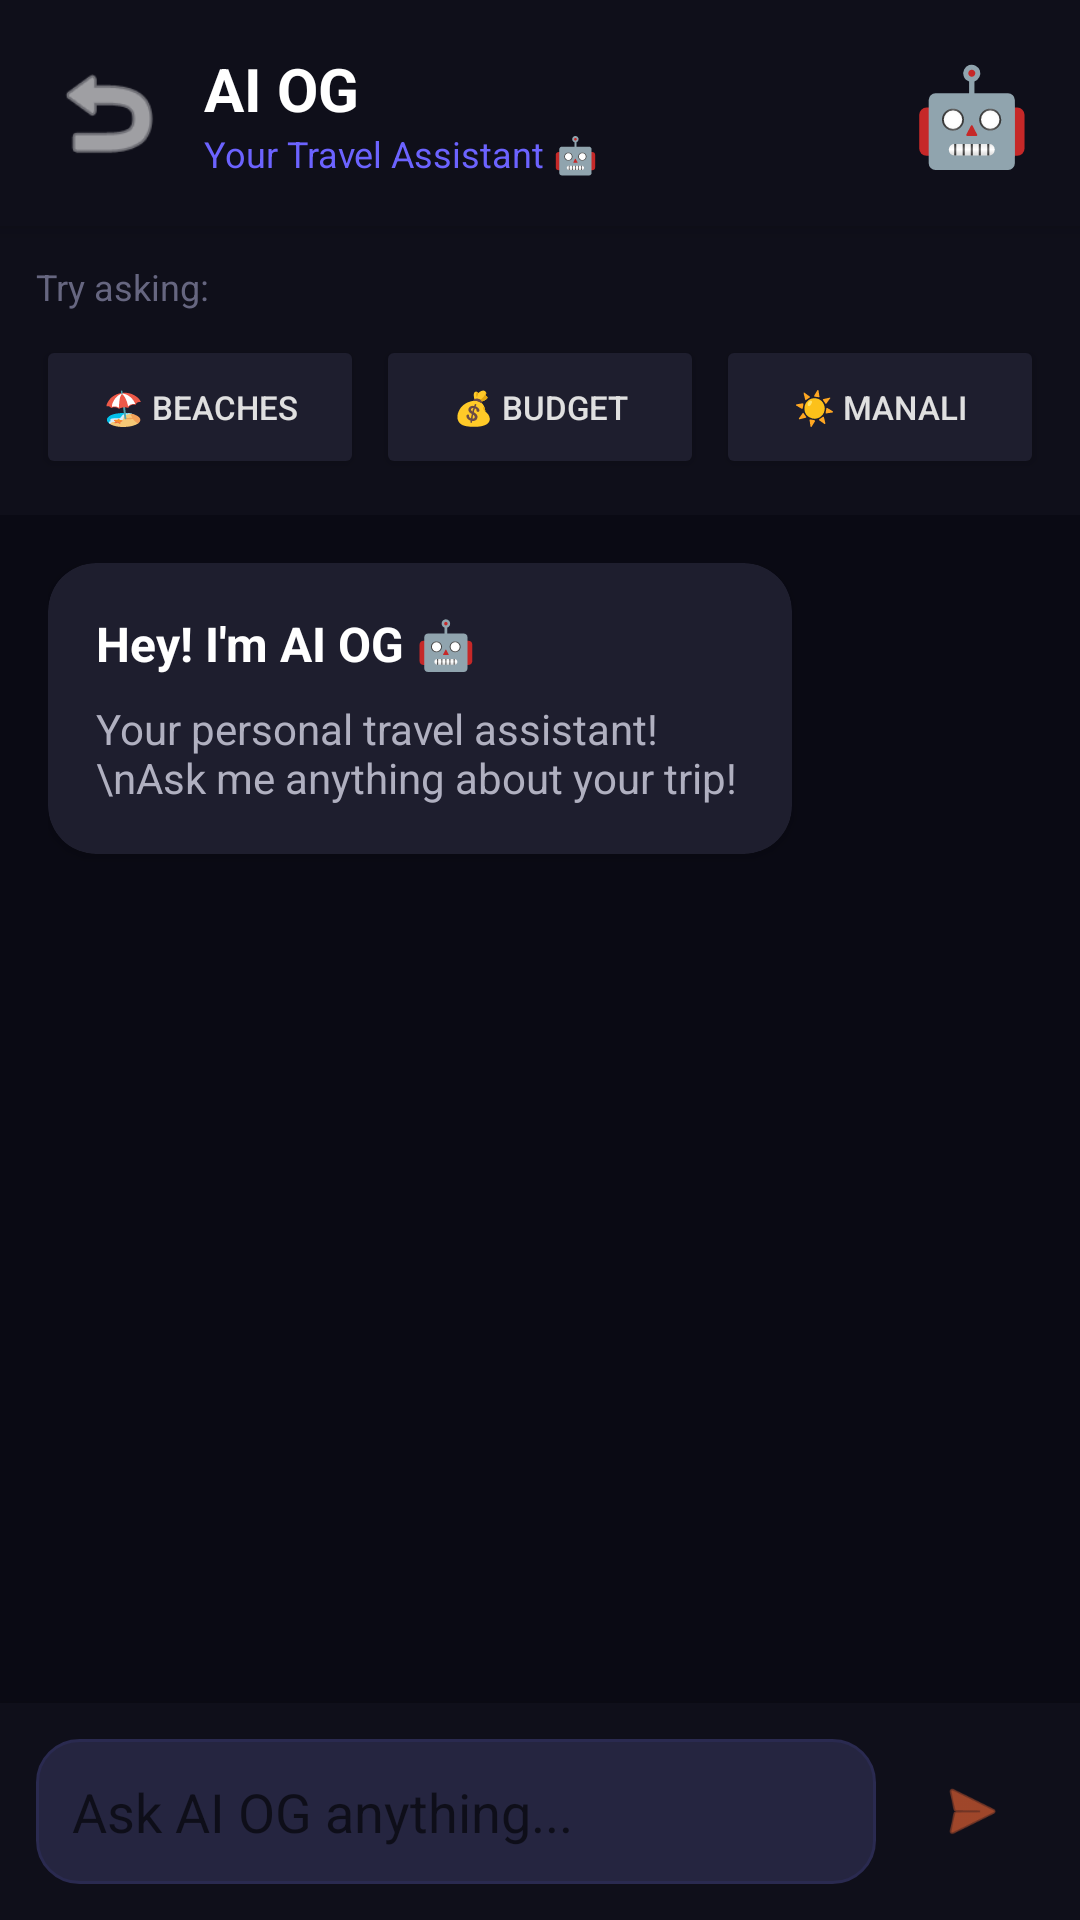

Named icons in this screenshot (1080px x 1920px) and their centers, point (x, y):
revert: point (109, 114)
send: point (973, 1811)
